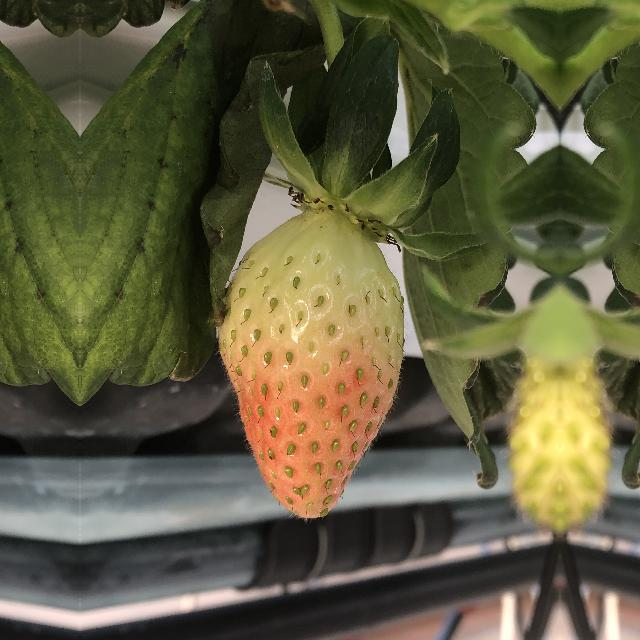Health_75: (212, 193, 404, 529)
